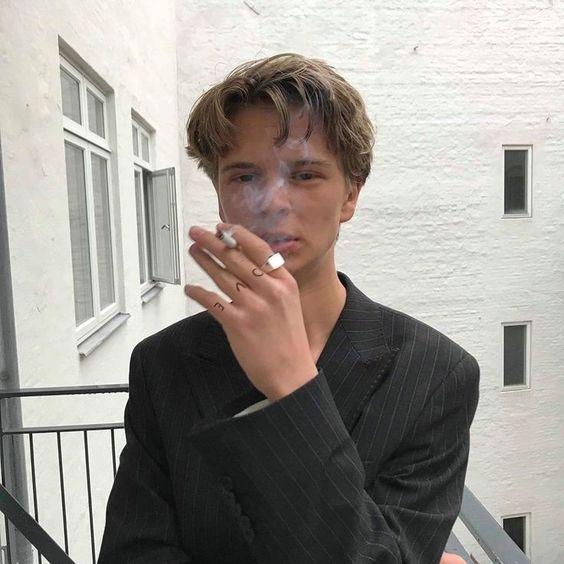cigarette: (215, 230, 238, 248)
